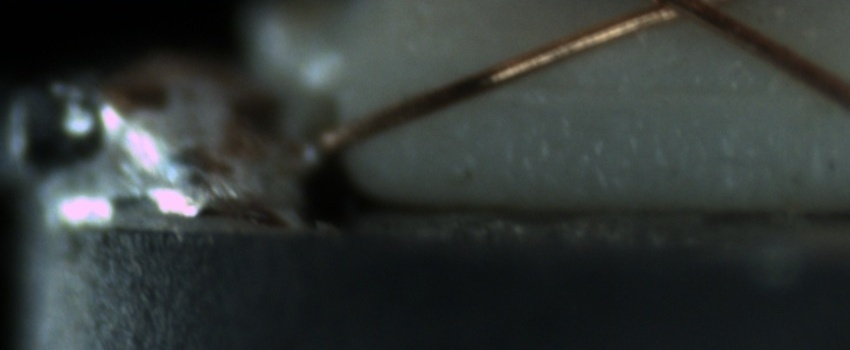CL: (628, 0, 729, 30)
DL: (474, 57, 801, 126)
